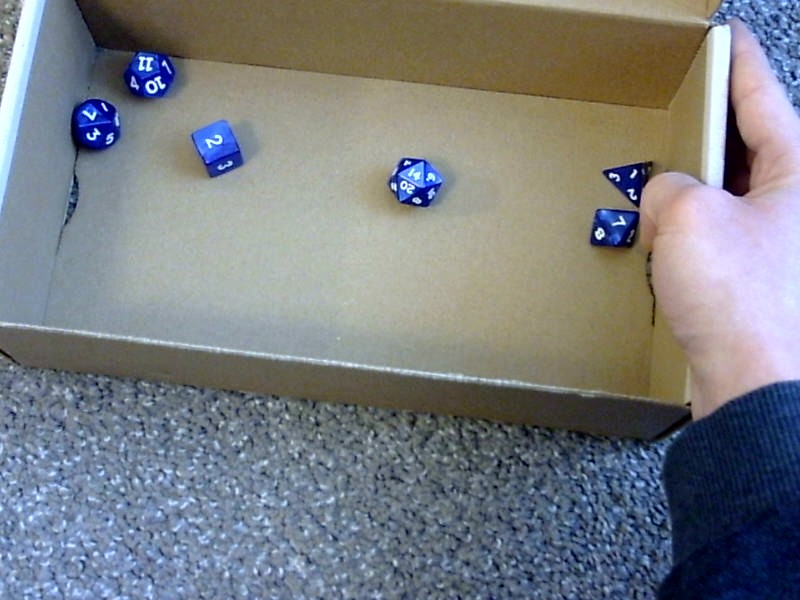d10 7: (63, 91, 123, 153)
d12 11: (119, 43, 177, 101)
d20 14: (388, 148, 444, 208)
d4 1: (592, 151, 653, 207)
d6 2: (184, 112, 246, 179)
d8 7: (585, 204, 644, 252)
